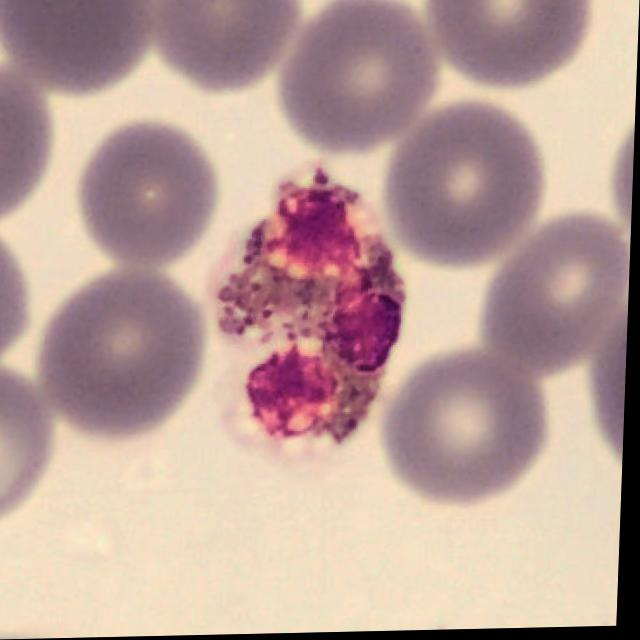Eosinofilo: (216, 173, 404, 463)
